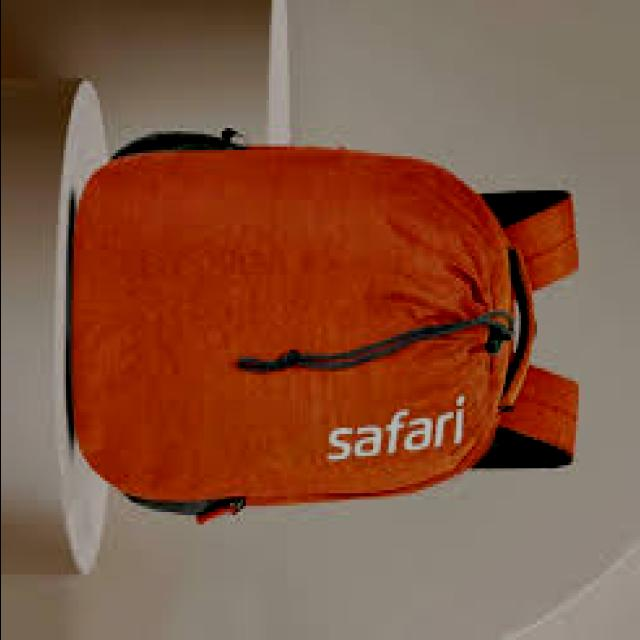backpack: (71, 129, 581, 525)
